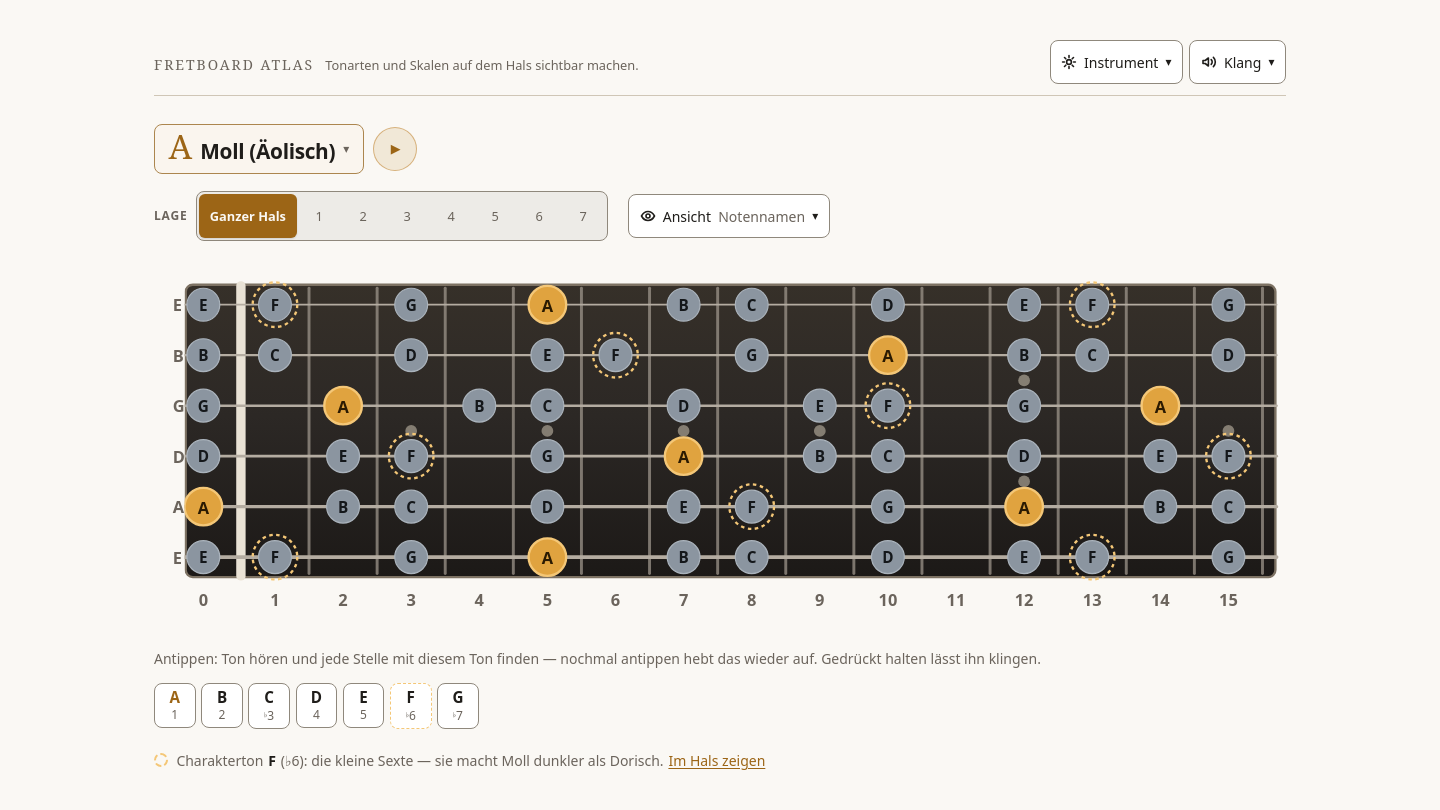
Test: App — CAGED-Overlay › bietet in einer Molltonart nur die drei greifbaren Formen an — und sagt warum
Click the button "Ansicht Notennamen ▾".
click(729, 216)  # box x1=628 y1=194 x2=830 y2=238
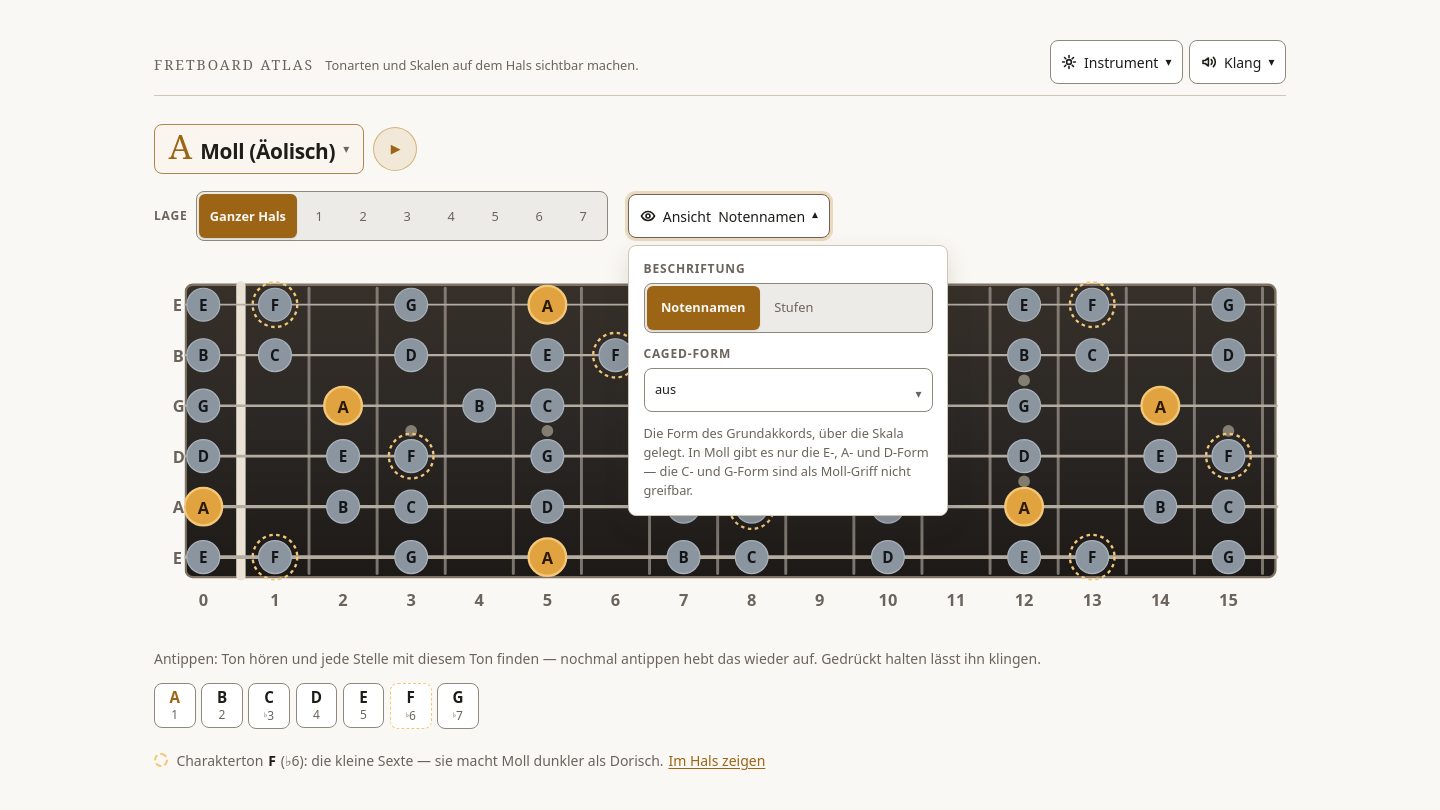
Expected: the text "In Moll" is shown, x1=644 y1=443 x2=929 y2=499
